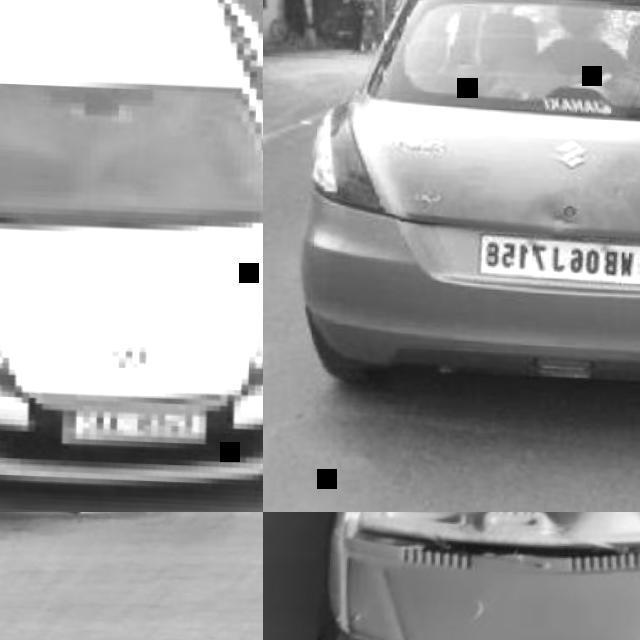car: (0, 5, 259, 512), (304, 0, 640, 389)
